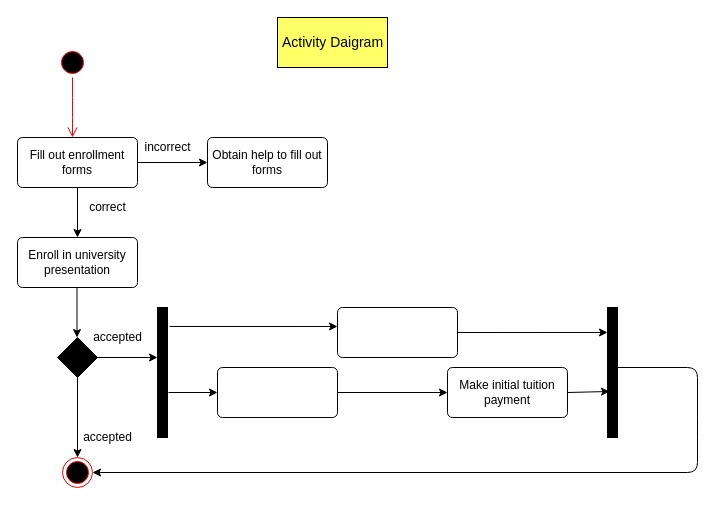
Image size: 723x505. Some labels were removed from this diagram. The box of each missing label's shape, as (x1, y1, x2, y2) in pixels:
Attend university overview presentation: (336, 306, 458, 358)
Enroll in seminars: (216, 366, 338, 418)
